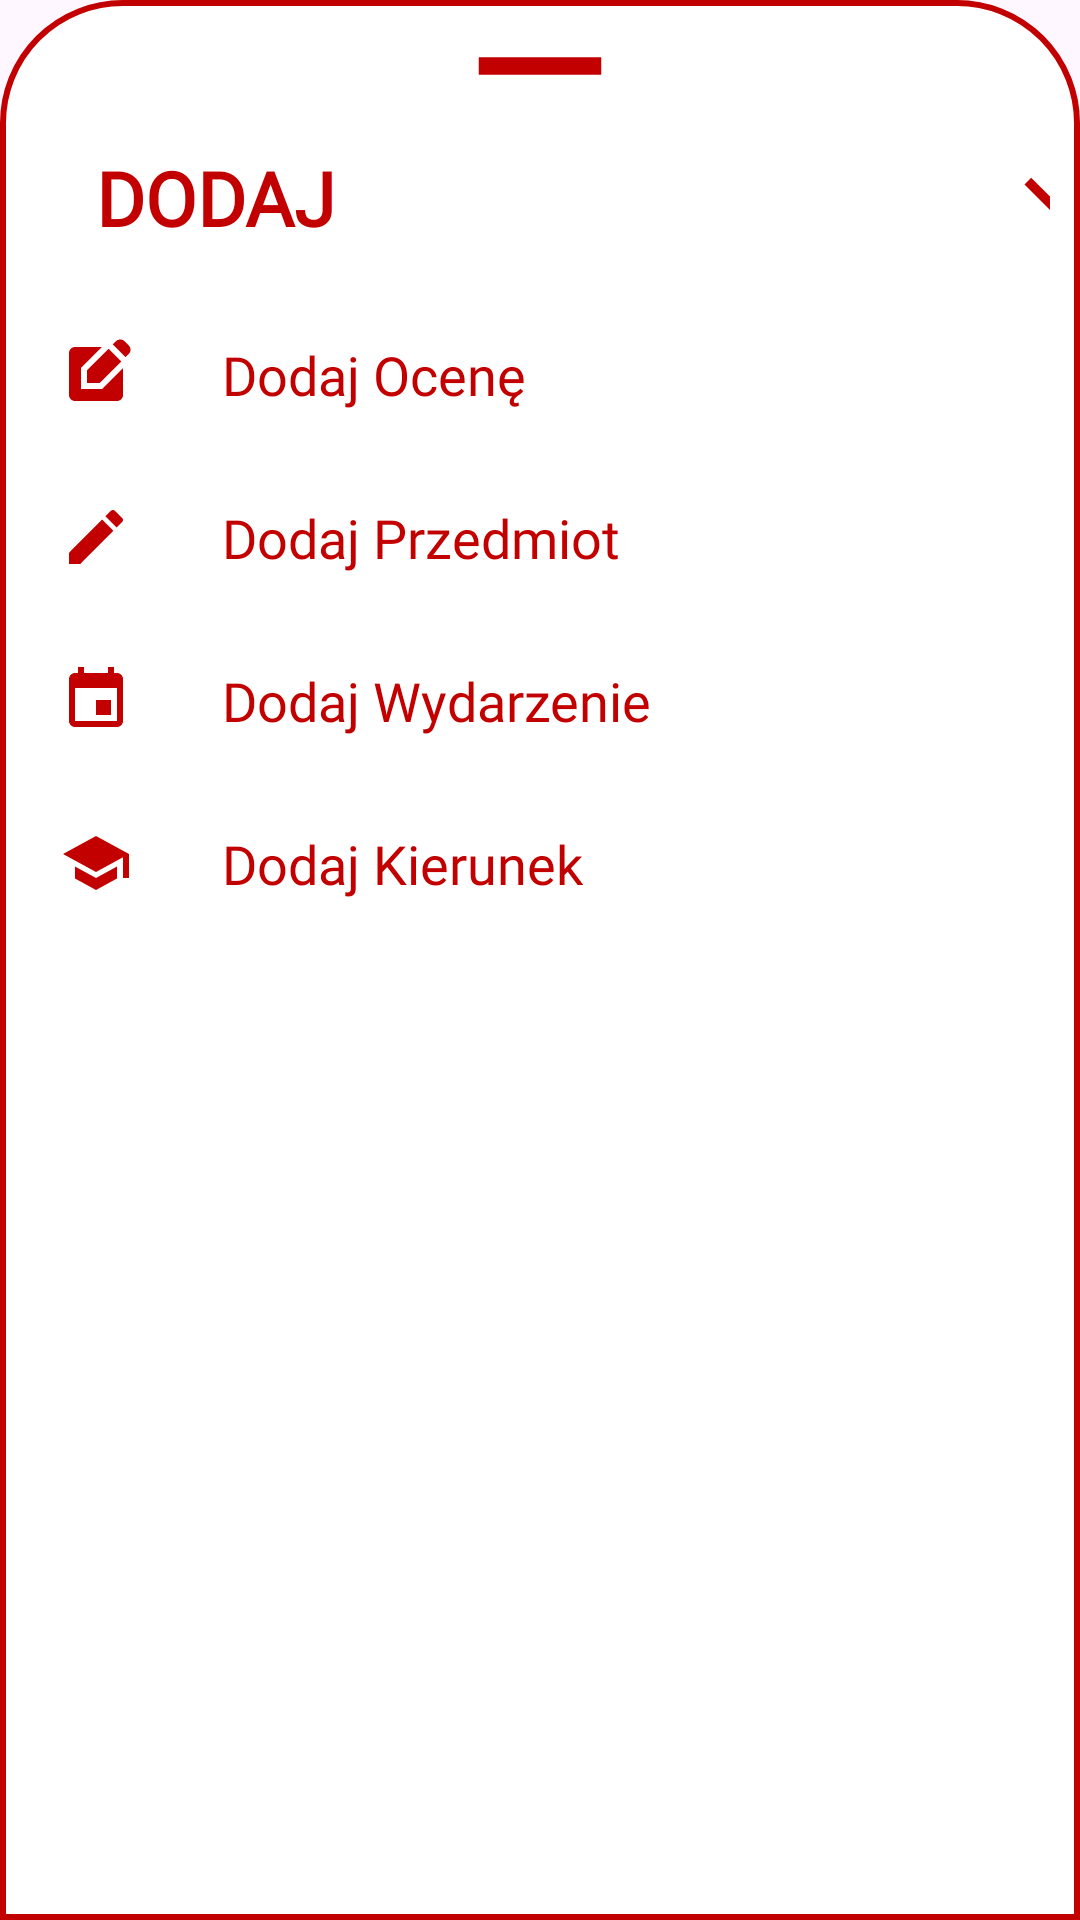

Icons on this 1080 x 1920 Android screen, each with the point to tap as (x,y):
create: (96,537)
dod ocene: (100,370)
event: (96,697)
school: (96,863)
